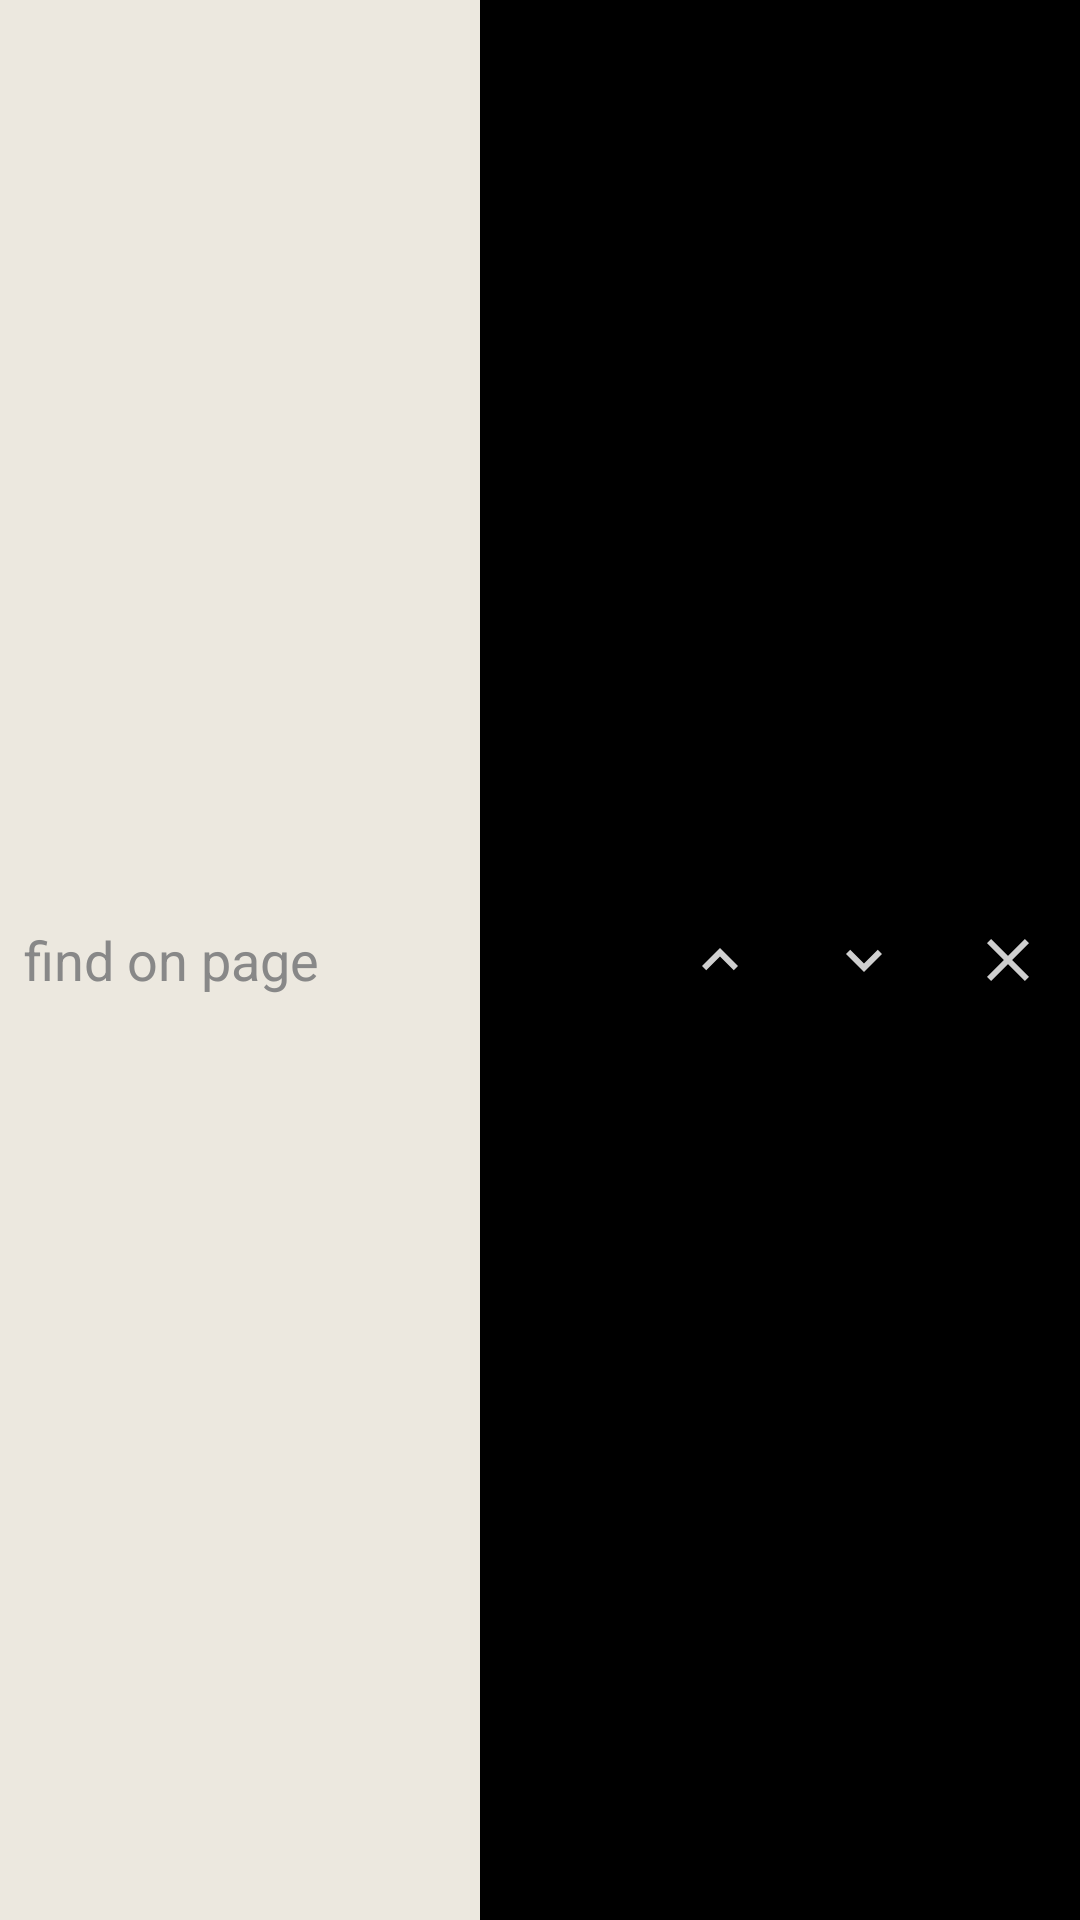

Icons on this 1080 × 1920 Android screen, each with the point to tap as (x,y):
Close find: (1008,960)
Next: (864,961)
Previous: (720,959)
